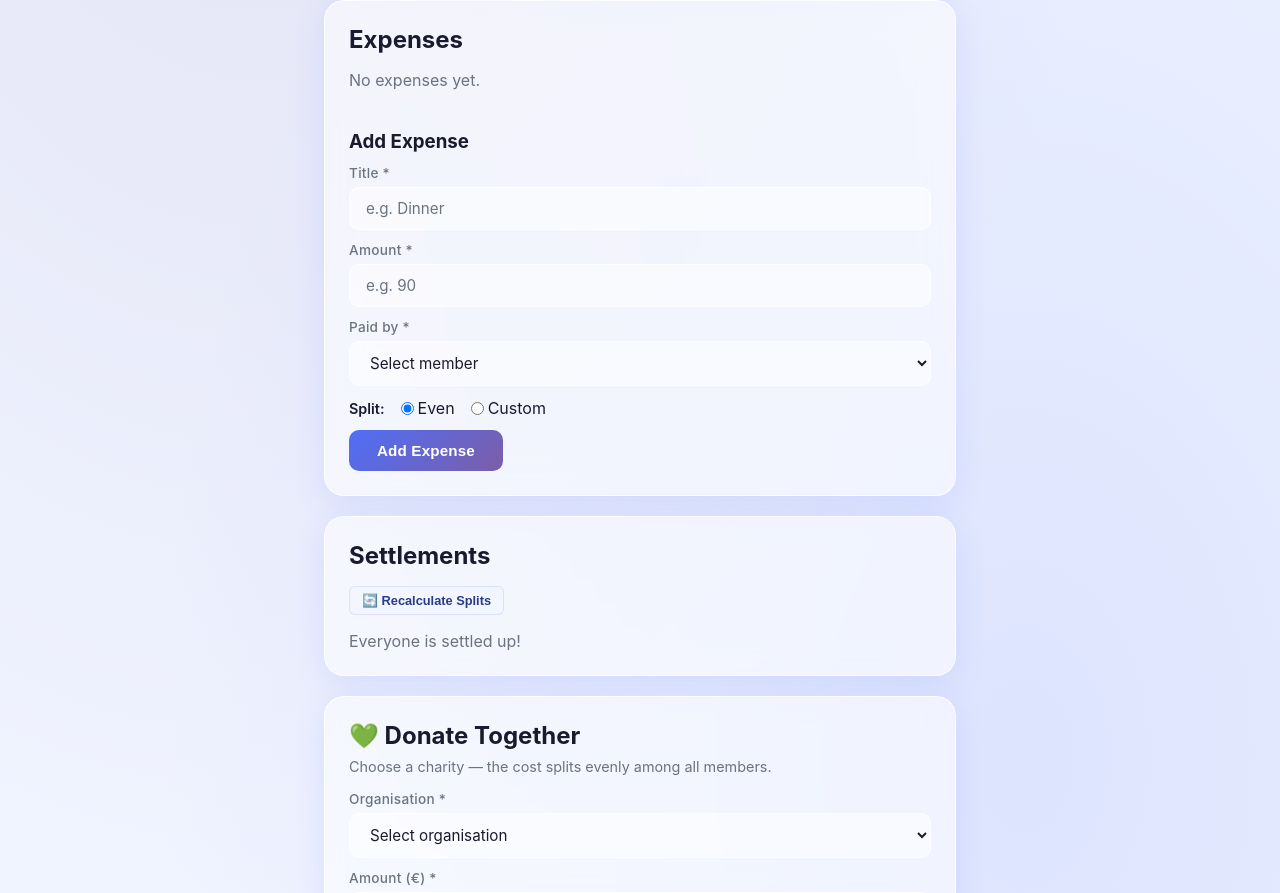
GroupPage — add expense › requires a title, amount, and payer before submitting
This screenshot has width=1280, height=893.
(page scrolled)
Click the button "Add Expense" at (426, 450), box [349, 430, 503, 471]
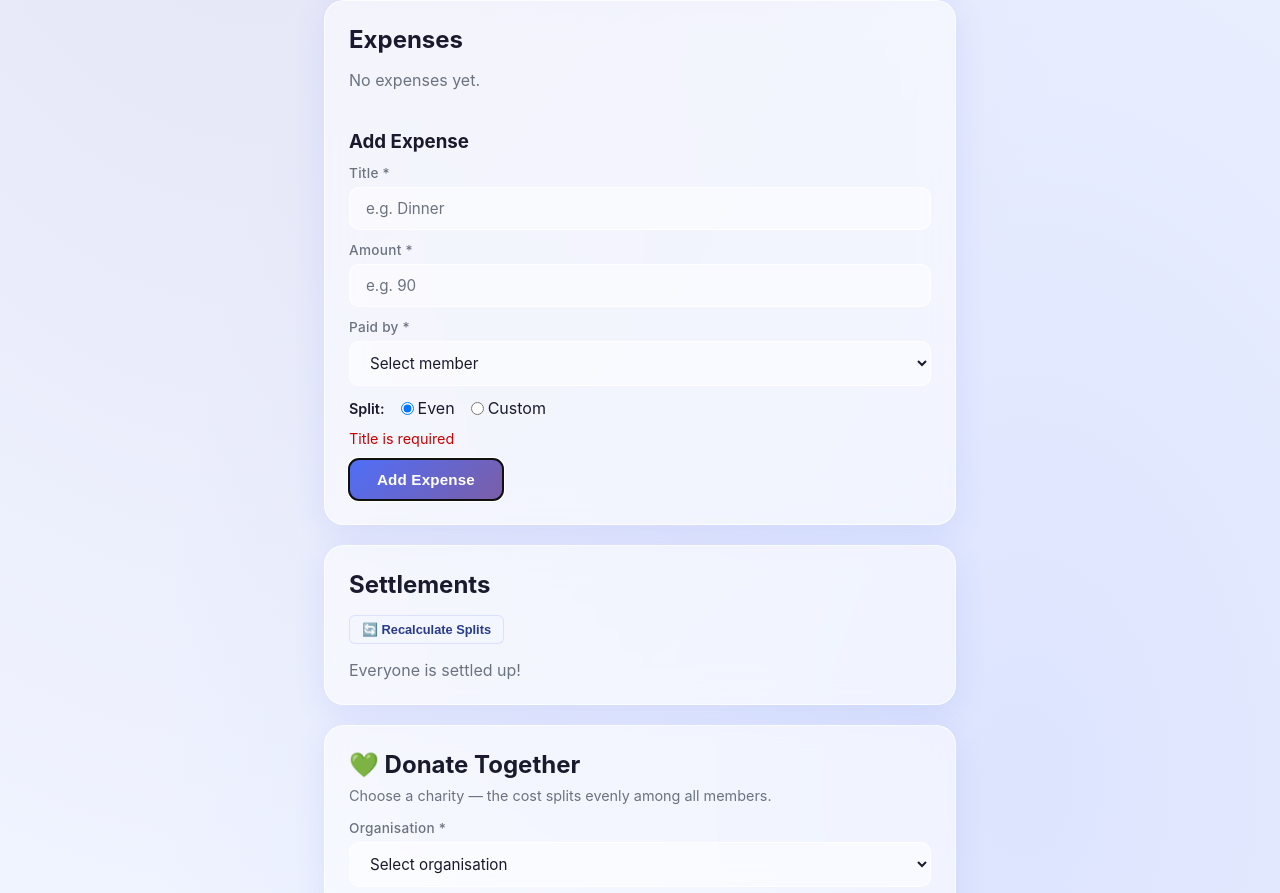
Now the text "Title is required" is shown, box [349, 430, 454, 447]
